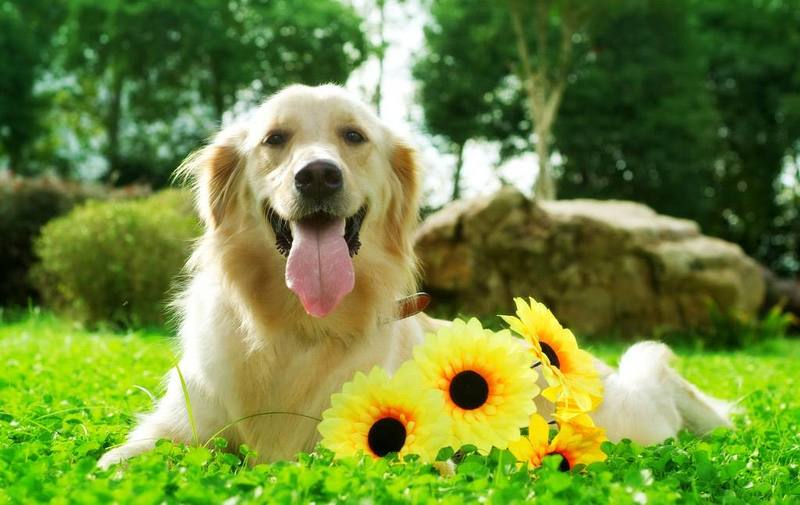dog: (161, 75, 435, 331)
